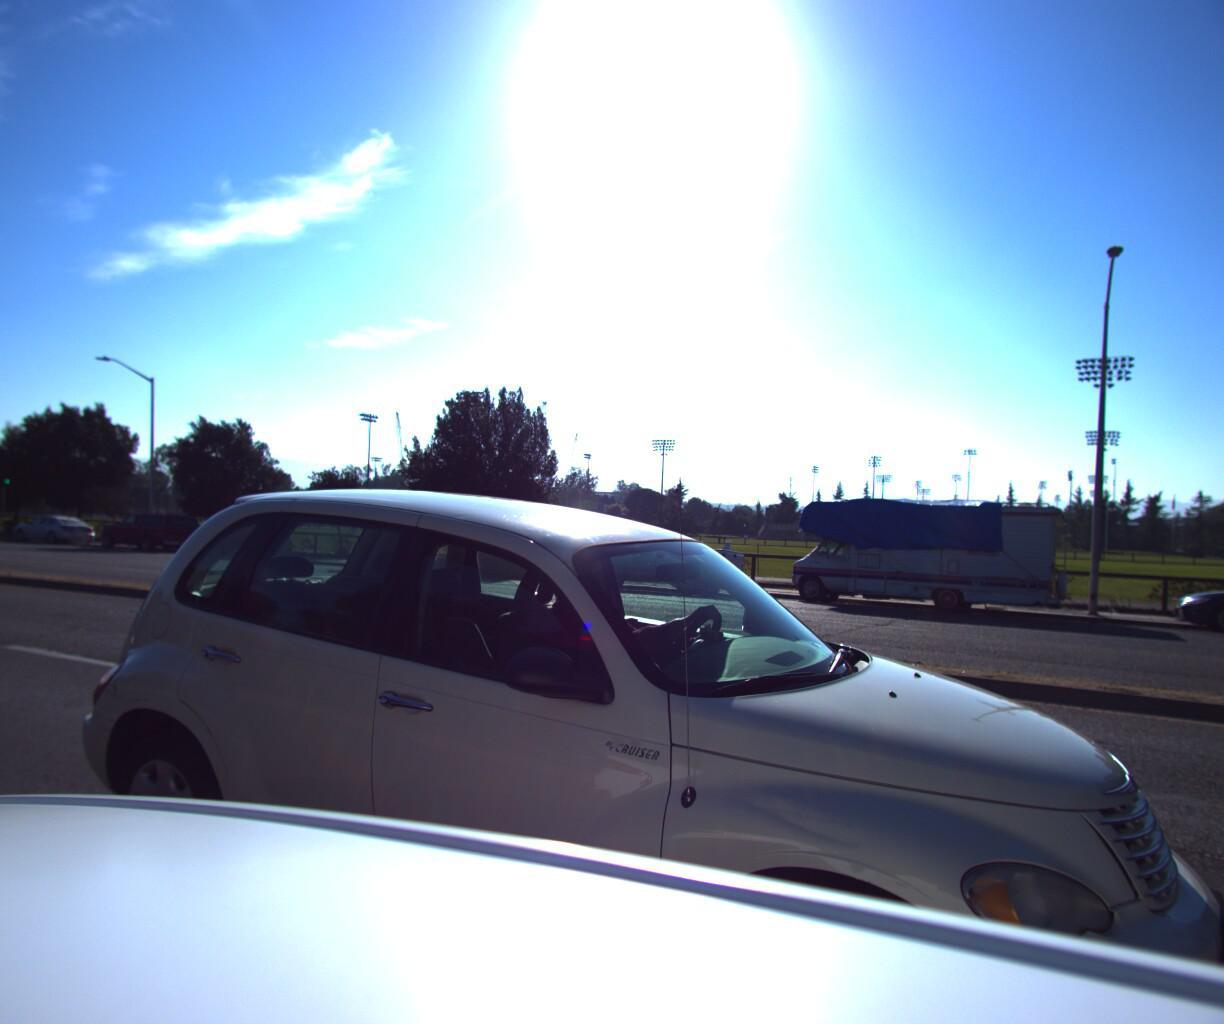car: (0, 432, 1224, 1024), (555, 523, 755, 601), (1160, 566, 1224, 655), (91, 515, 206, 562), (189, 525, 298, 567), (5, 520, 100, 554), (0, 504, 8, 566)
other_vehicle: (777, 489, 1074, 627)
